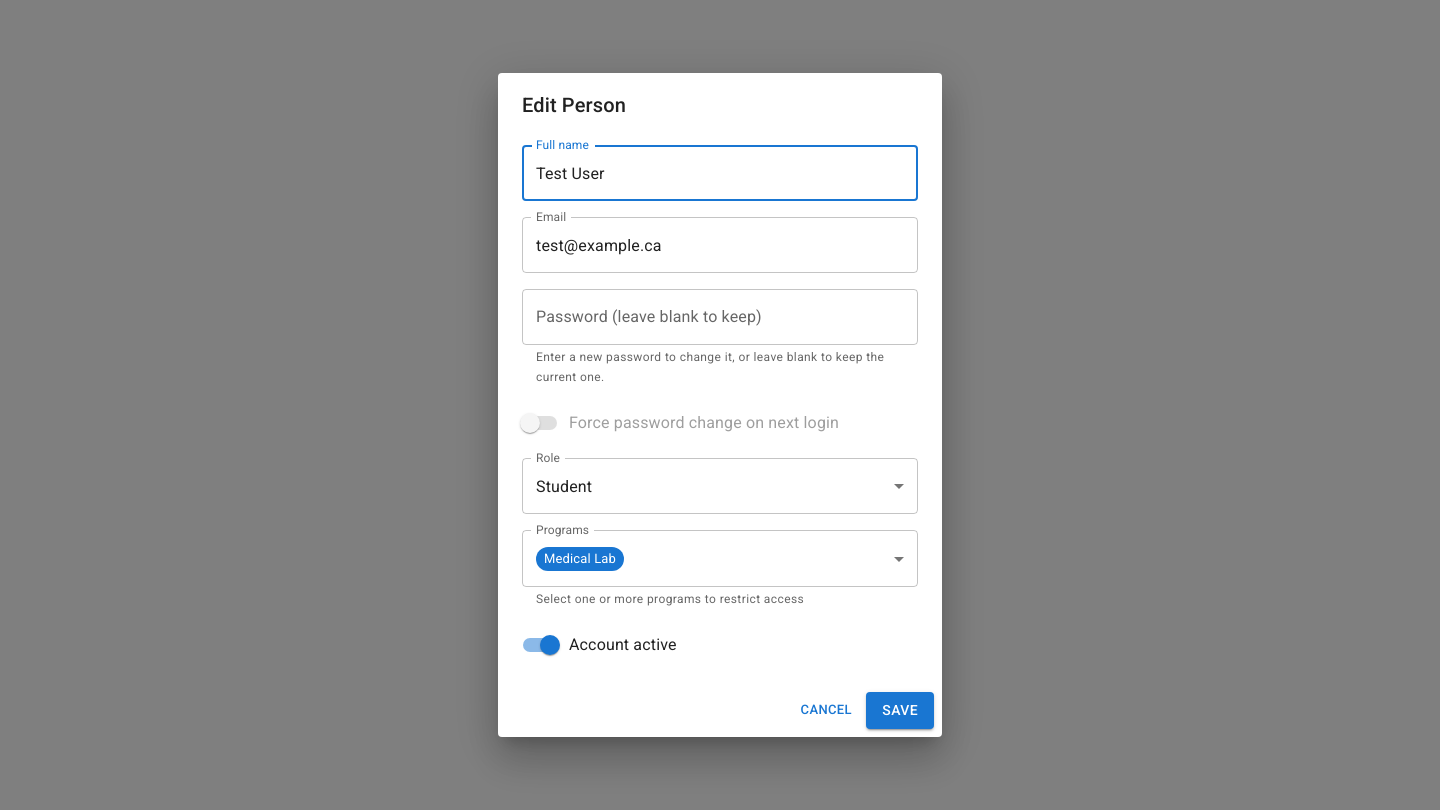
Test: AddEditPersonModal › controls forced change for oidc=false password=false
Expected: the switch labelled "Force password change on next login" is disabled, [520,413,839,433]
Hover over the text "Force password change on next login" at (704, 423), box [569,411,839,435]
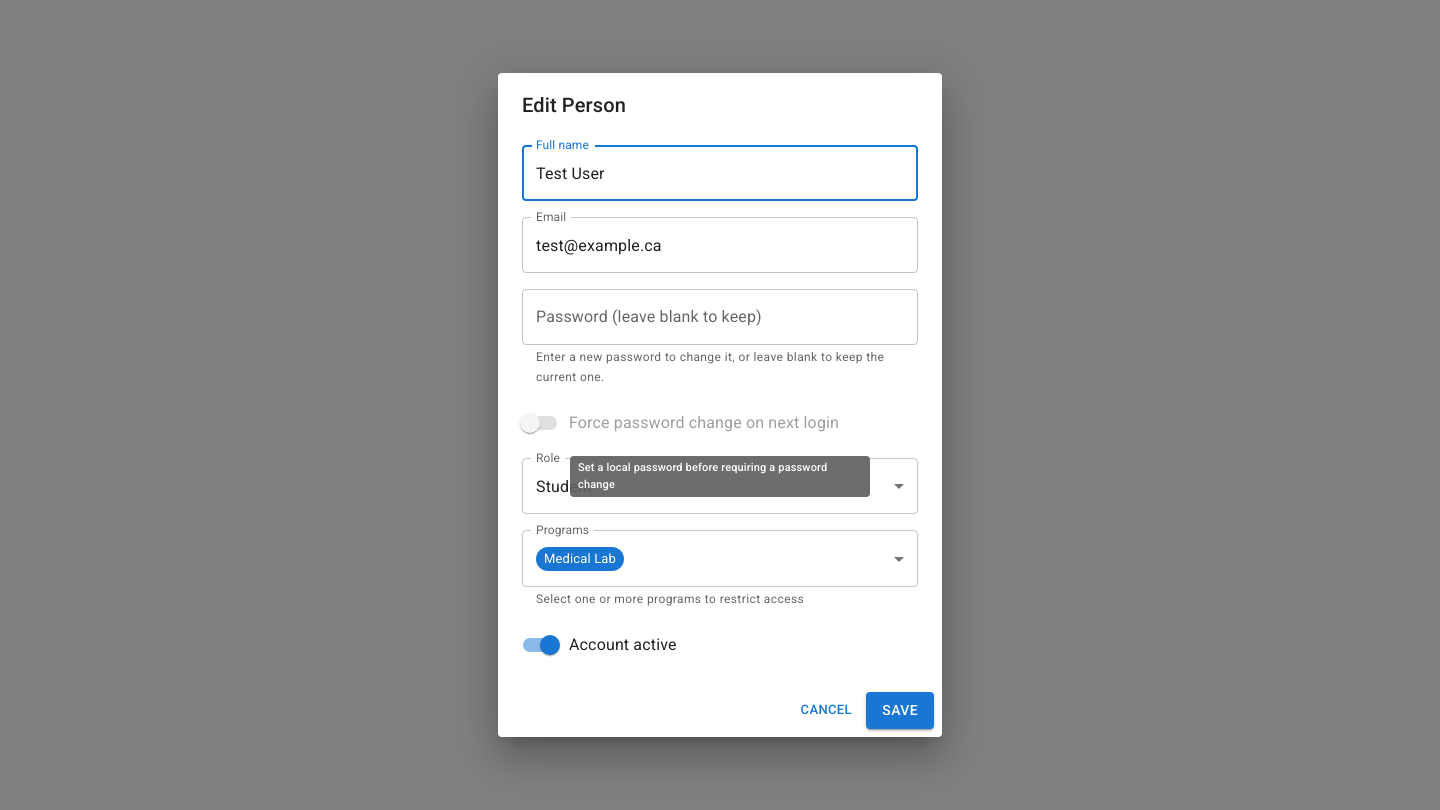
Expected: the tooltip reads "Set a local password before requiring a password change", [578,461,827,490]
